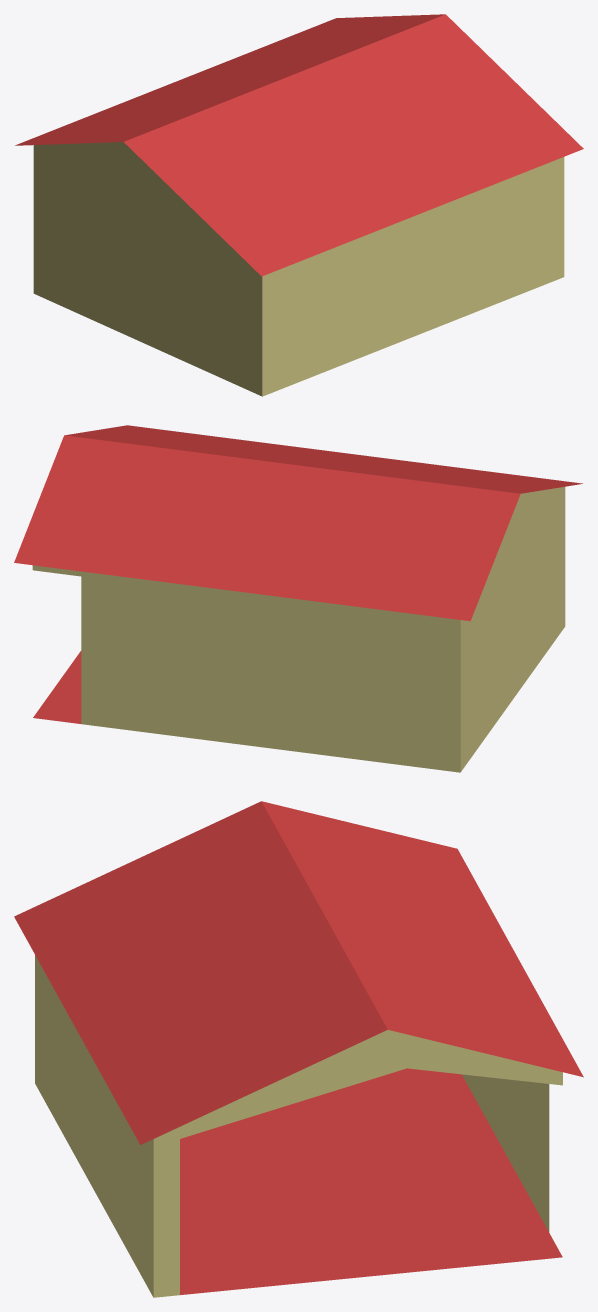
The picture shows the model from 3 angles, top to bottom: view 1: azimuth 30°, elevation 25°; view 2: azimuth 150°, elevation 25°; view 3: azimuth 270°, elevation 25°; orthographic projection. The views are drawn at different scales.
Bounding box in the file's own units: 36.72 × 32.47 × 15.87.
